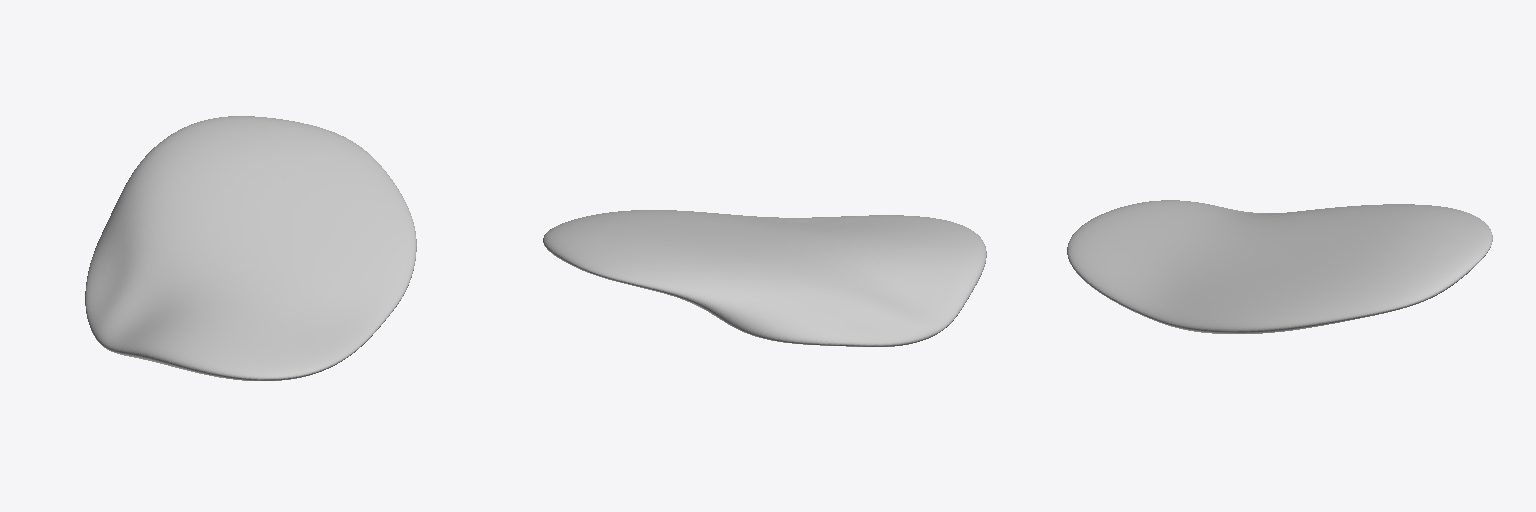
3 views of the same model, side by side, from view 1: azimuth 30°, elevation 25°; view 2: azimuth 150°, elevation 25°; view 3: azimuth 270°, elevation 25° (orthographic).
Parts seen in each view (by area): view 1: Quad_Sphere; view 2: Quad_Sphere; view 3: Quad_Sphere.
Part boxes in pixels (x1,y1,x2,y2): Quad_Sphere: (85,116,416,380); Quad_Sphere: (543,210,986,346); Quad_Sphere: (1067,200,1492,333).
Bounding box in the file's own units: 2.92 × 0.8291 × 3.26.